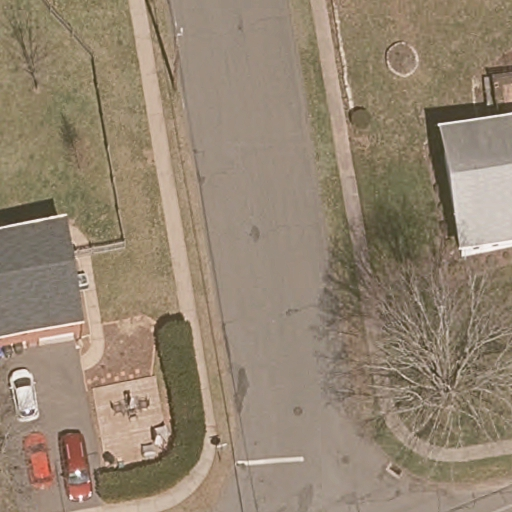DT: (170, 21, 183, 91)
